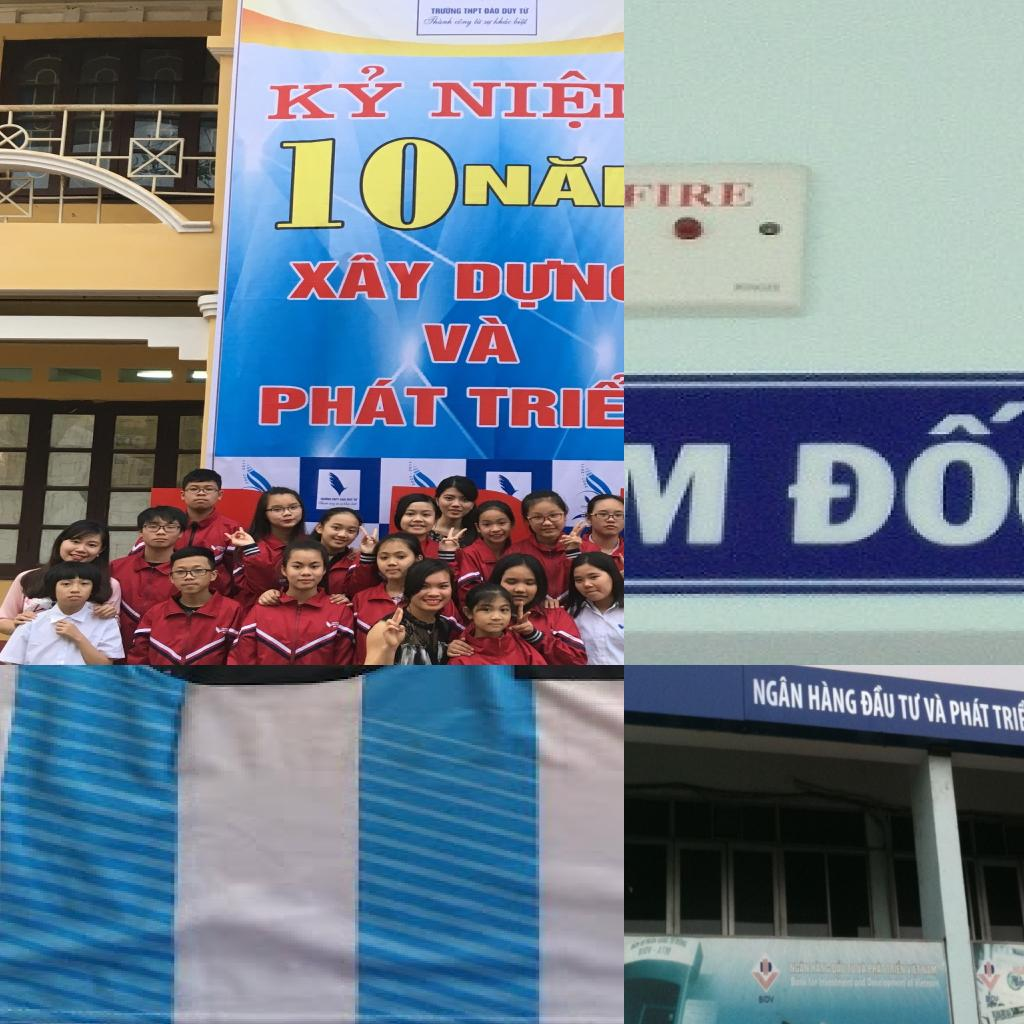text: (780, 403, 1024, 554), (274, 134, 460, 232), (624, 416, 736, 552), (428, 70, 624, 132), (257, 378, 448, 428), (467, 373, 624, 429), (452, 258, 624, 309), (462, 155, 624, 208), (267, 64, 404, 120), (286, 253, 438, 301), (420, 316, 522, 364), (753, 672, 805, 714), (808, 680, 857, 719), (858, 684, 897, 721), (950, 696, 990, 732), (993, 697, 1024, 737), (924, 689, 949, 731), (898, 688, 924, 727), (867, 976, 907, 992), (818, 975, 854, 989), (885, 958, 907, 977), (810, 958, 832, 976), (914, 975, 940, 990), (787, 960, 811, 976), (422, 15, 456, 25), (866, 960, 886, 976), (831, 958, 848, 974), (906, 960, 921, 978), (430, 7, 462, 15), (757, 992, 776, 1004), (453, 19, 475, 29), (790, 976, 808, 988), (1011, 961, 1024, 976), (854, 975, 867, 989), (512, 17, 530, 27), (857, 960, 868, 976), (846, 962, 858, 976), (923, 965, 938, 976), (493, 17, 512, 25), (32, 603, 47, 613), (484, 6, 500, 14), (1013, 977, 1024, 988), (463, 8, 483, 14), (907, 975, 915, 990), (580, 477, 589, 489), (502, 8, 518, 14), (241, 474, 250, 484), (809, 976, 818, 986), (519, 7, 530, 15), (482, 19, 494, 26), (408, 476, 416, 486), (408, 460, 414, 472), (580, 462, 586, 474), (473, 19, 484, 25), (242, 459, 247, 471)
